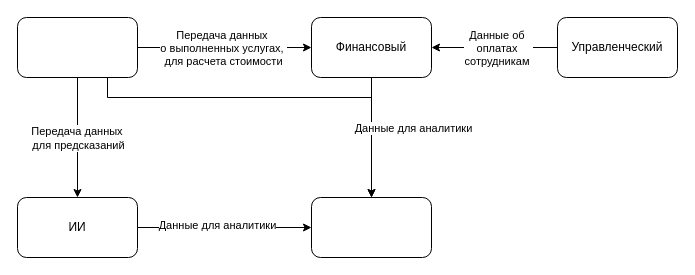
The diagram is 695 pixels wide and 275 high, and some of its shapes have lost their labels. Here are the shapes that lost their labels. From the top down, the centre of each, then its label:
pixel 77 47: Медицинский
pixel 371 227: Аналитический
